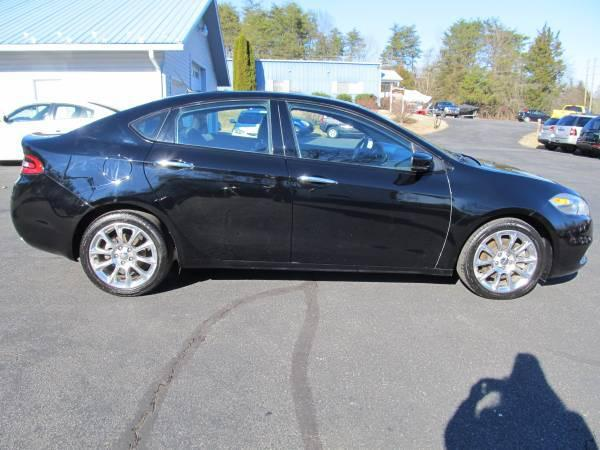Front_Bumper: (530, 207, 594, 283)
Front_Fender: (432, 167, 571, 278)
Front_Right_Door: (288, 162, 450, 280)
Front_Right_Window: (278, 100, 443, 174)
Rear_Bumper: (11, 174, 93, 261)
Rear_Fender: (22, 108, 170, 205)
Rear_Right_Door: (144, 143, 292, 273)
Rear_Right_Window: (152, 101, 281, 157)
Right_Headlight: (551, 192, 591, 214)
Right_Taillight: (19, 153, 43, 176)
Roof: (66, 90, 457, 163)
Wheel: (79, 210, 170, 294), (462, 219, 548, 298)
